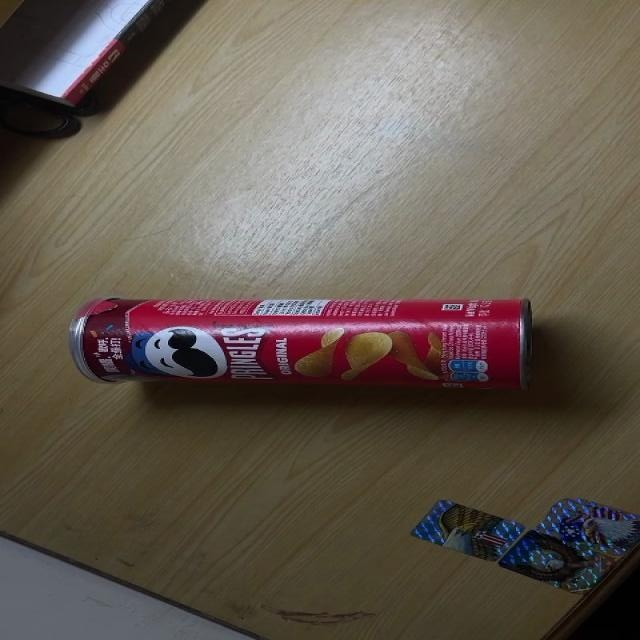Pringles: (73, 295, 532, 386)
